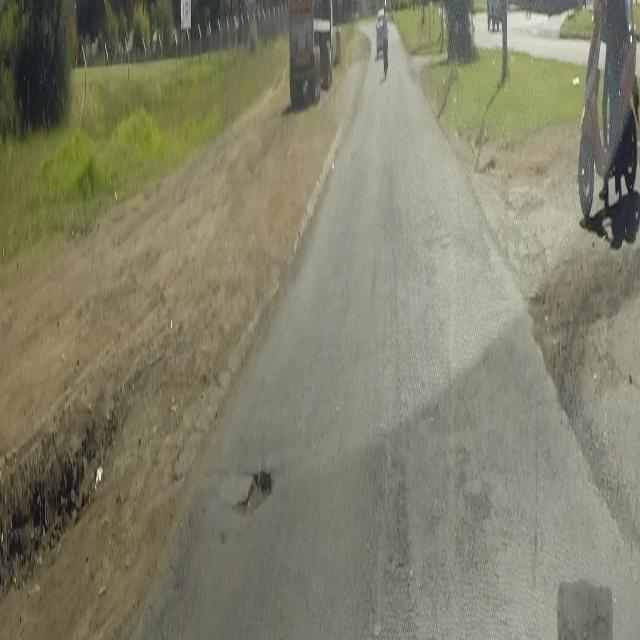pothole: (227, 456, 274, 520)
